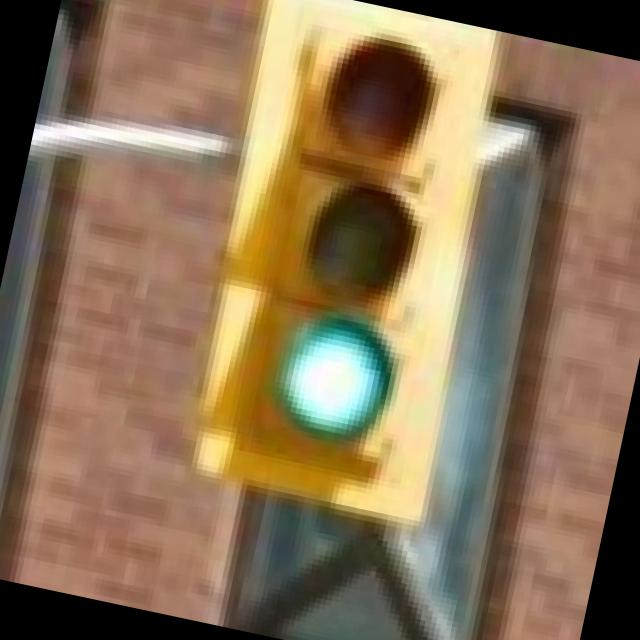green-lights: (244, 293, 416, 457)
